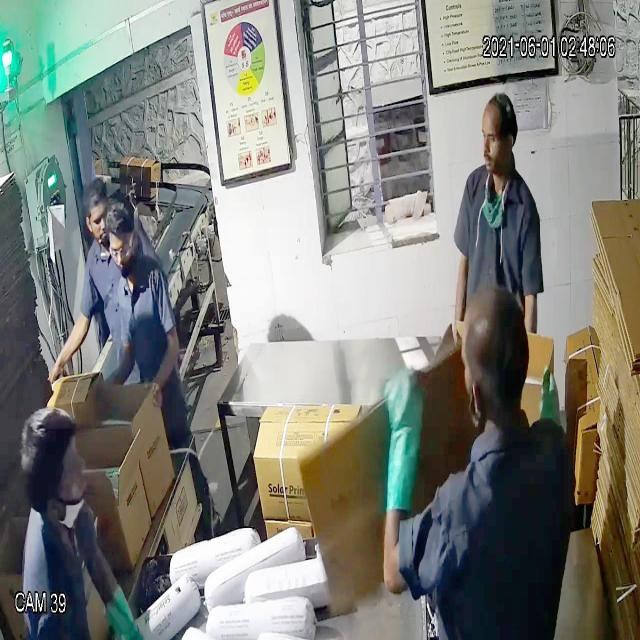glasses: (107, 236, 135, 264)
no-glass: (478, 124, 520, 156)
